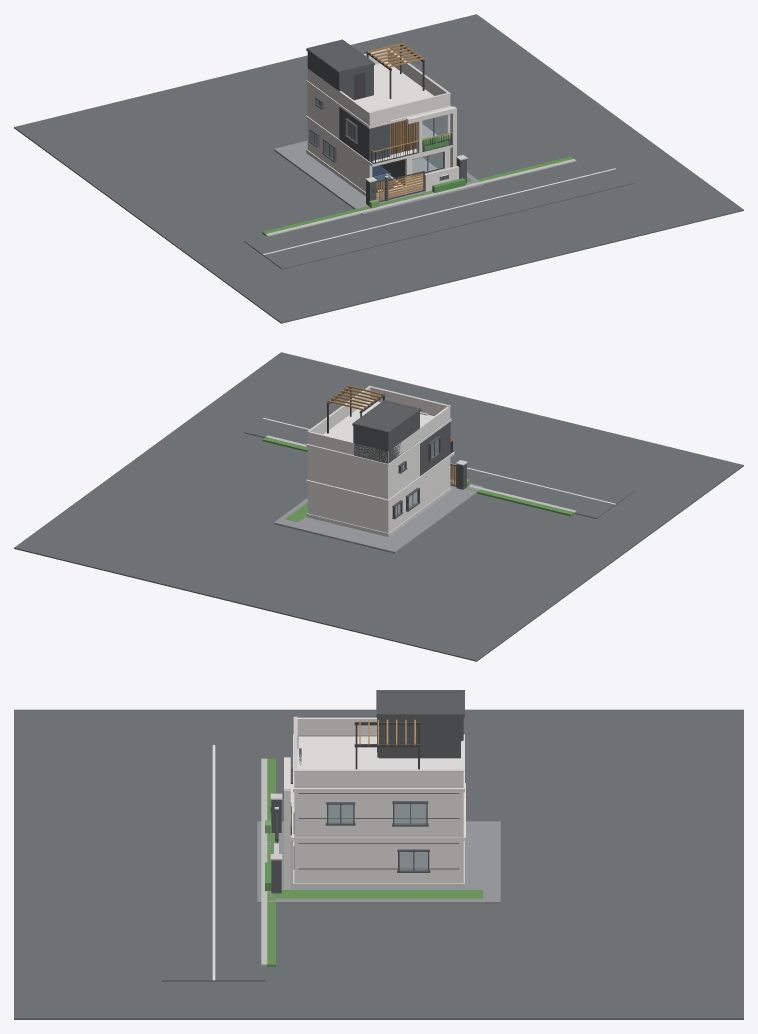
Rendered from duplex_rev002.glb.
The picture shows the model from 3 angles, top to bottom: view 1: azimuth 30°, elevation 25°; view 2: azimuth 150°, elevation 25°; view 3: azimuth 270°, elevation 25°; orthographic projection. The views are drawn at different scales.
Visible parts, largest first — view 1: WorldGroundPlane, PublicRoad, PlotDrivewayPavers, TerraceSlab, GF_Wall_West, MumtyRoofSlab, SidewalkCurb, FF_Wall_West_White, Terrace_Parapet_Front, FF_Wall_West_Charcoal, GrassVerge, Terrace_Parapet_West (+7 smaller); view 2: WorldGroundPlane, PublicRoad, PlotDrivewayPavers, FF_Wall_South, GF_Wall_South, GF_Wall_West, TerraceSlab, MumtyRoofSlab, Mumty_Wall_Rear, FF_Wall_West_White, Terrace_Parapet_South, FF_Wall_West_Charcoal (+7 smaller); view 3: WorldGroundPlane, PublicRoad, FF_Wall_East, GF_Wall_East, PlotDrivewayPavers, TerraceSlab, Mumty_Wall_East, Terrace_Parapet_East, MumtyRoofSlab, SideLawnStrip_East, Terrace_Parapet_West, SidewalkCurb (+7 smaller).
Part boxes in pixels (x1,y1,x2,y2): WorldGroundPlane: [14, 14, 743, 323]; PublicRoad: [244, 155, 634, 269]; PlotDrivewayPavers: [274, 140, 483, 214]; TerraceSlab: [306, 62, 451, 128]; GF_Wall_West: [307, 120, 372, 191]; MumtyRoofSlab: [306, 39, 374, 73]; SidewalkCurb: [265, 159, 576, 236]; FF_Wall_West_White: [307, 84, 339, 138]; Terrace_Parapet_Front: [369, 94, 450, 125]; FF_Wall_West_Charcoal: [339, 104, 372, 161]; GrassVerge: [262, 156, 573, 235]; Terrace_Parapet_West: [307, 68, 371, 124]; WorldGroundPlane: [14, 352, 743, 661]; PublicRoad: [244, 404, 634, 518]; PlotDrivewayPavers: [274, 479, 483, 553]; FF_Wall_South: [307, 444, 389, 499]; GF_Wall_South: [307, 483, 389, 532]; GF_Wall_West: [385, 458, 450, 531]; TerraceSlab: [306, 400, 451, 466]; MumtyRoofSlab: [352, 400, 421, 434]; Mumty_Wall_Rear: [354, 422, 388, 463]; FF_Wall_West_White: [385, 444, 419, 499]; Terrace_Parapet_South: [308, 432, 388, 463]; FF_Wall_West_Charcoal: [420, 418, 450, 475]; WorldGroundPlane: [14, 709, 743, 1019]; PublicRoad: [161, 745, 265, 981]; FF_Wall_East: [294, 788, 463, 837]; GF_Wall_East: [294, 841, 463, 882]; PlotDrivewayPavers: [257, 821, 500, 904]; TerraceSlab: [293, 734, 464, 792]; Mumty_Wall_East: [379, 712, 462, 758]; Terrace_Parapet_East: [294, 771, 463, 787]; MumtyRoofSlab: [376, 690, 464, 717]; SideLawnStrip_East: [274, 890, 483, 898]; Terrace_Parapet_West: [297, 717, 376, 735]; SidewalkCurb: [261, 758, 267, 966].
Bounding box in the file's own units: 42 × 9.4 × 42.
